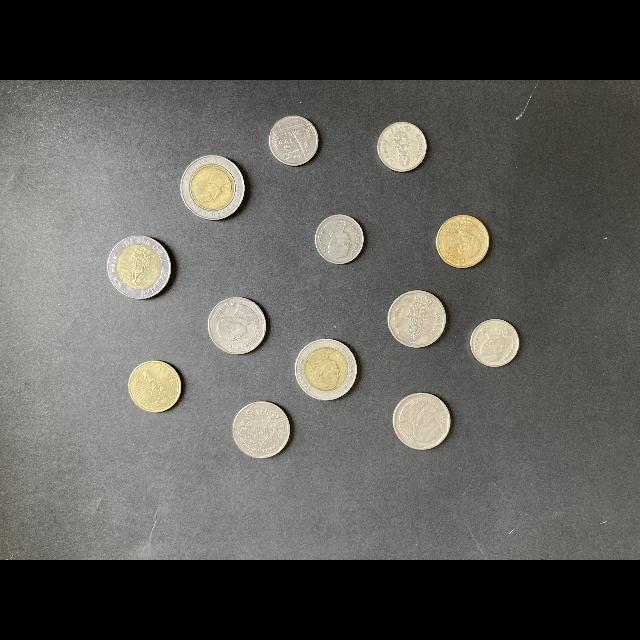1 Bath: (264, 113, 325, 169), (311, 210, 369, 267), (376, 120, 430, 176), (469, 317, 522, 371)
10 Bath: (178, 154, 253, 224), (106, 233, 176, 304), (296, 338, 361, 401)
2 Bath: (125, 358, 187, 419), (436, 212, 493, 271)
5 Bath: (231, 400, 297, 463), (387, 289, 450, 354), (393, 391, 455, 456), (206, 296, 269, 359)
